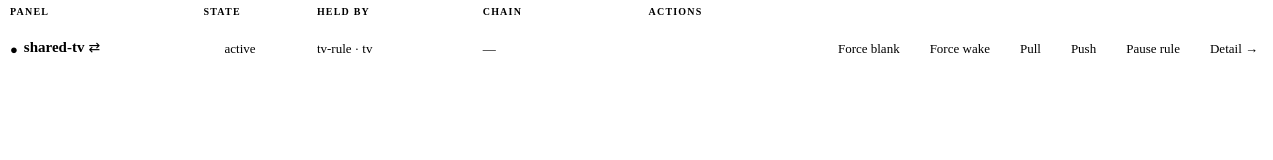
Test: Displays › surfaces a failed push as an error
Click the button "Push" at coordinates (1084, 48), box [1059,35,1108,62]
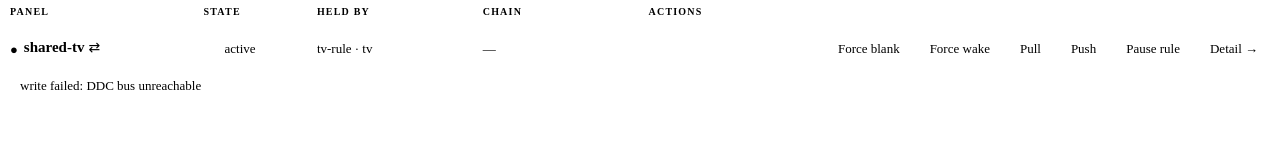
Check: the text "write failed: DDC bus unreachable" is shown, box [20,78,201,93]
